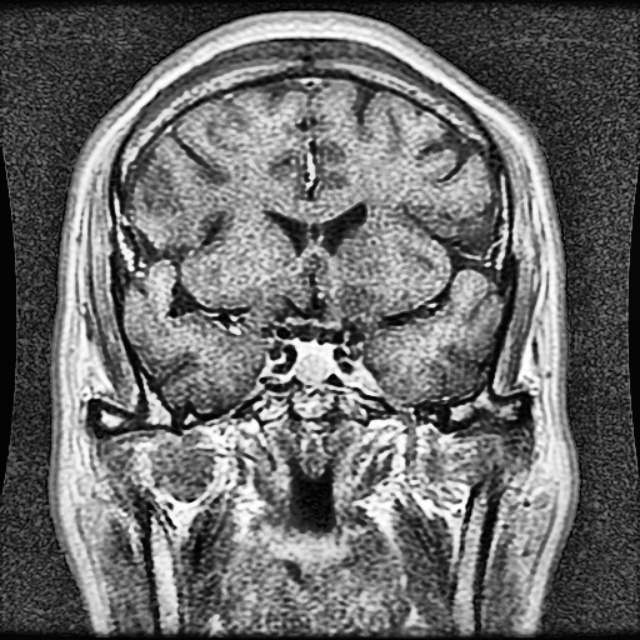Pituitary: (294, 342, 332, 382)
